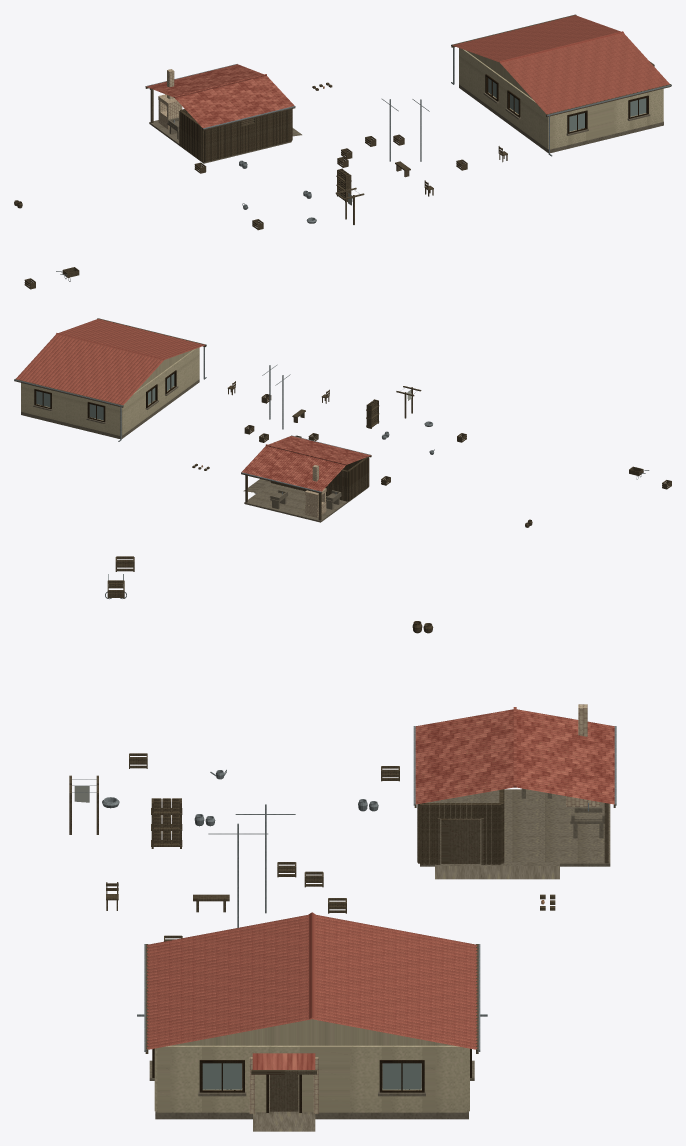
The picture shows the model from 3 angles, top to bottom: view 1: azimuth 30°, elevation 25°; view 2: azimuth 150°, elevation 25°; view 3: azimuth 270°, elevation 25°; orthographic projection. The views are drawn at different scales.
Parts seen in each view (by area): view 1: H11_TELHAS, H11_EDICULA_COBERTURA, H11_LATERAIS, H11_FUNDOS, H11_EDICULA_DEPOSITO_LATERAL, H11_EDICULA_DEPOSITO_MATA_JUNTAS, H11_EDICULA_DEPOSITO_FUNDOS, H11_FUNDACAO, H11_VIDROS_RECUADOS, H11_CAIXILHOS, H11_BEIRAIS, H11_OITOES; view 2: H11_TELHAS, H11_EDICULA_COBERTURA, H11_LATERAIS, H11_FUNDOS, H11_EDICULA_BASE, H11_EDICULA_DEPOSITO_MATA_JUNTAS, H11_EDICULA_DEPOSITO_FUNDOS, H11_FUNDACAO, H11_VIDROS_RECUADOS, H11_EDICULA_DEPOSITO_LATERAL, H11_CAIXILHOS, H11_BEIRAIS (+1 smaller); view 3: H11_TELHAS, H11_EDICULA_COBERTURA, H11_FACHADA, H11_EDICULA_BASE, H11_OITOES, H11_EDICULA_DEPOSITO_FRENTE, H11_FUNDACAO, H11_VIDROS_RECUADOS, H11_EDICULA_DEPOSITO_PORTA_FOLHA, H11_EDICULA_RAMPA, H11_RAMPA, H11_CAIXILHOS (+4 smaller).
Boxes of the visible parts, bbox=[...] form: H11_TELHAS: bbox=[453, 15, 669, 114]; H11_EDICULA_COBERTURA: bbox=[146, 64, 294, 128]; H11_LATERAIS: bbox=[550, 89, 663, 149]; H11_FUNDOS: bbox=[459, 48, 548, 149]; H11_EDICULA_DEPOSITO_LATERAL: bbox=[180, 109, 291, 162]; H11_EDICULA_DEPOSITO_MATA_JUNTAS: bbox=[179, 109, 291, 161]; H11_EDICULA_DEPOSITO_FUNDOS: bbox=[179, 110, 203, 161]; H11_FUNDACAO: bbox=[459, 84, 663, 153]; H11_VIDROS_RECUADOS: bbox=[488, 78, 646, 131]; H11_CAIXILHOS: bbox=[485, 74, 648, 133]; H11_BEIRAIS: bbox=[451, 14, 671, 116]; H11_OITOES: bbox=[467, 51, 531, 98]; H11_TELHAS: bbox=[16, 319, 204, 404]; H11_EDICULA_COBERTURA: bbox=[241, 436, 370, 491]; H11_LATERAIS: bbox=[21, 383, 120, 435]; H11_FUNDOS: bbox=[121, 347, 199, 435]; H11_EDICULA_BASE: bbox=[244, 483, 368, 522]; H11_EDICULA_DEPOSITO_MATA_JUNTAS: bbox=[271, 457, 368, 501]; H11_EDICULA_DEPOSITO_FUNDOS: bbox=[347, 456, 369, 501]; H11_FUNDACAO: bbox=[21, 379, 199, 438]; H11_VIDROS_RECUADOS: bbox=[36, 374, 174, 420]; H11_EDICULA_DEPOSITO_LATERAL: bbox=[271, 458, 364, 501]; H11_CAIXILHOS: bbox=[34, 370, 176, 422]; H11_BEIRAIS: bbox=[14, 318, 206, 407]; H11_TELHAS: bbox=[147, 914, 477, 1049]; H11_EDICULA_COBERTURA: bbox=[415, 709, 614, 804]; H11_FACHADA: bbox=[157, 1045, 466, 1112]; H11_EDICULA_BASE: bbox=[420, 789, 610, 866]; H11_OITOES: bbox=[172, 1019, 452, 1045]; H11_EDICULA_DEPOSITO_FRENTE: bbox=[420, 803, 501, 864]; H11_FUNDACAO: bbox=[155, 1063, 468, 1119]; H11_VIDROS_RECUADOS: bbox=[202, 1063, 421, 1089]; H11_EDICULA_DEPOSITO_PORTA_FOLHA: bbox=[441, 818, 480, 863]; H11_EDICULA_RAMPA: bbox=[470, 866, 559, 879]; H11_RAMPA: bbox=[253, 1113, 315, 1131]; H11_CAIXILHOS: bbox=[152, 1048, 471, 1092].
Bounding box in the file's own units: 49.16 × 4.4 × 20.13.
12 materials, 9 textured.
